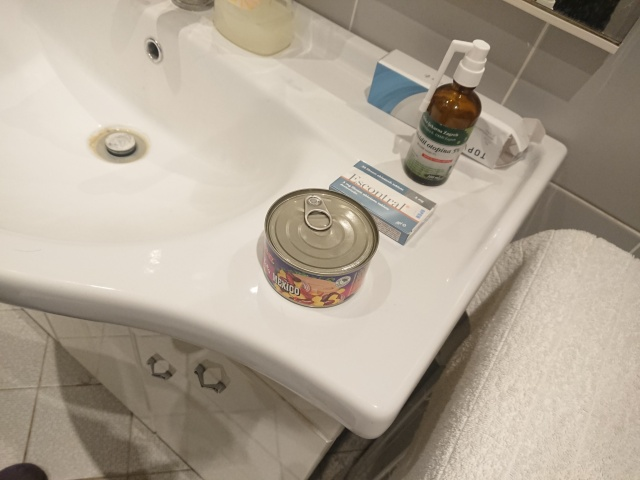Giana Tuna Salad Mexico 185g: (260, 185, 382, 311)
